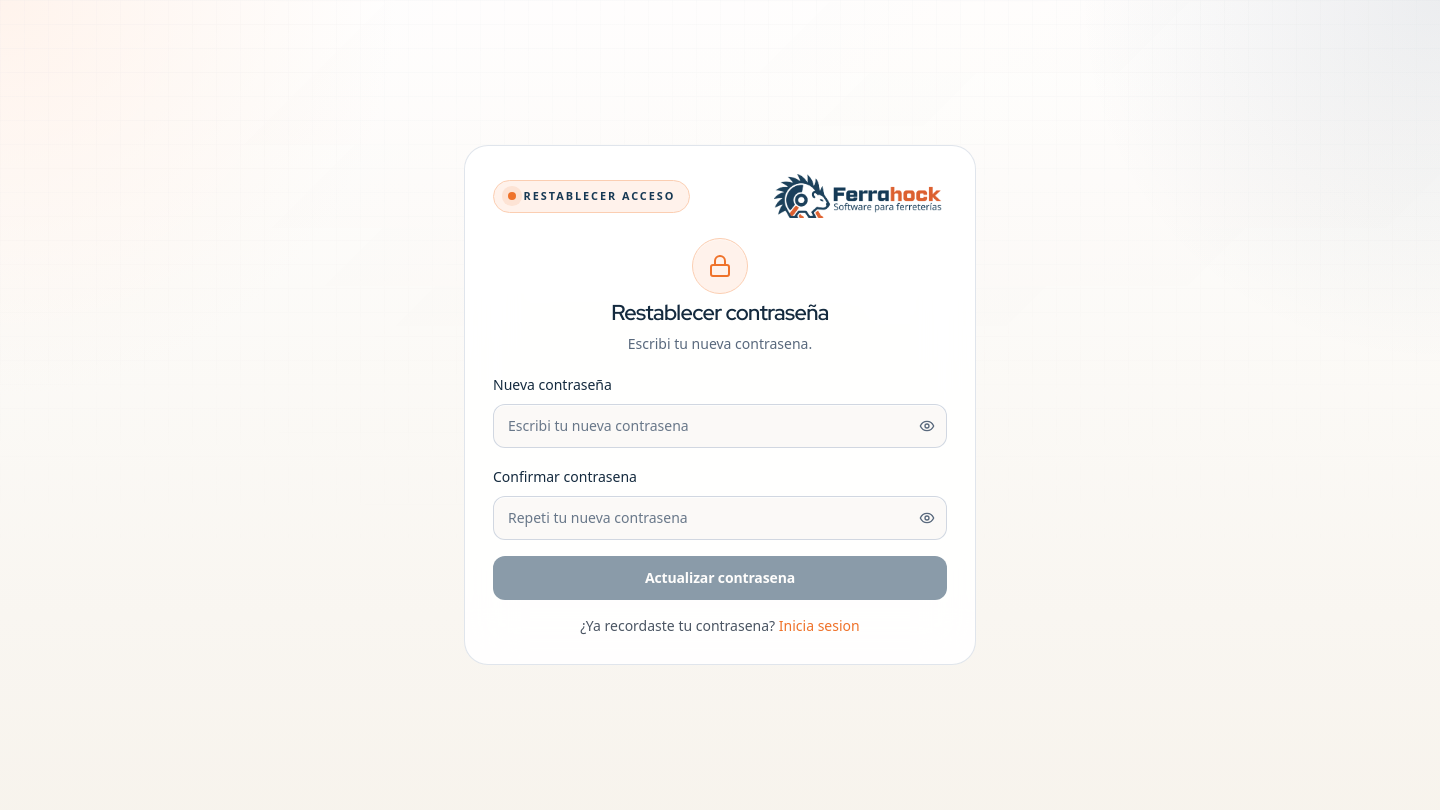
Test: reset-password page › handles expired token errors by switching to invalid state
This screenshot has width=1440, height=810.
Type "Abcdef1!" into the password field with placeholder "Escribi tu nueva contrasena" at (720, 426), box [493,404,947,448]
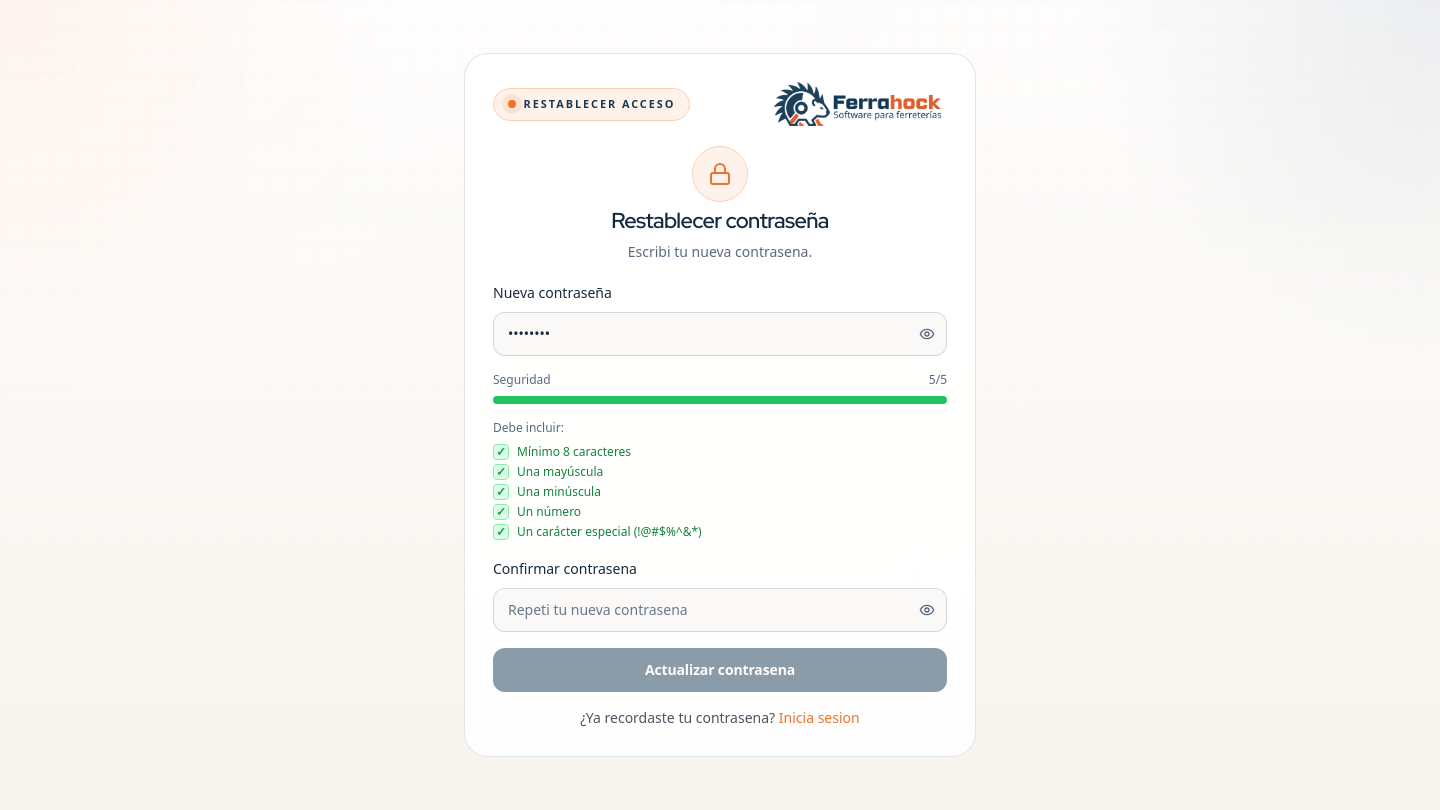
Type "Abcdef1!" into the password field with placeholder "Repeti tu nueva contrasena" at (720, 610), box [493,588,947,632]
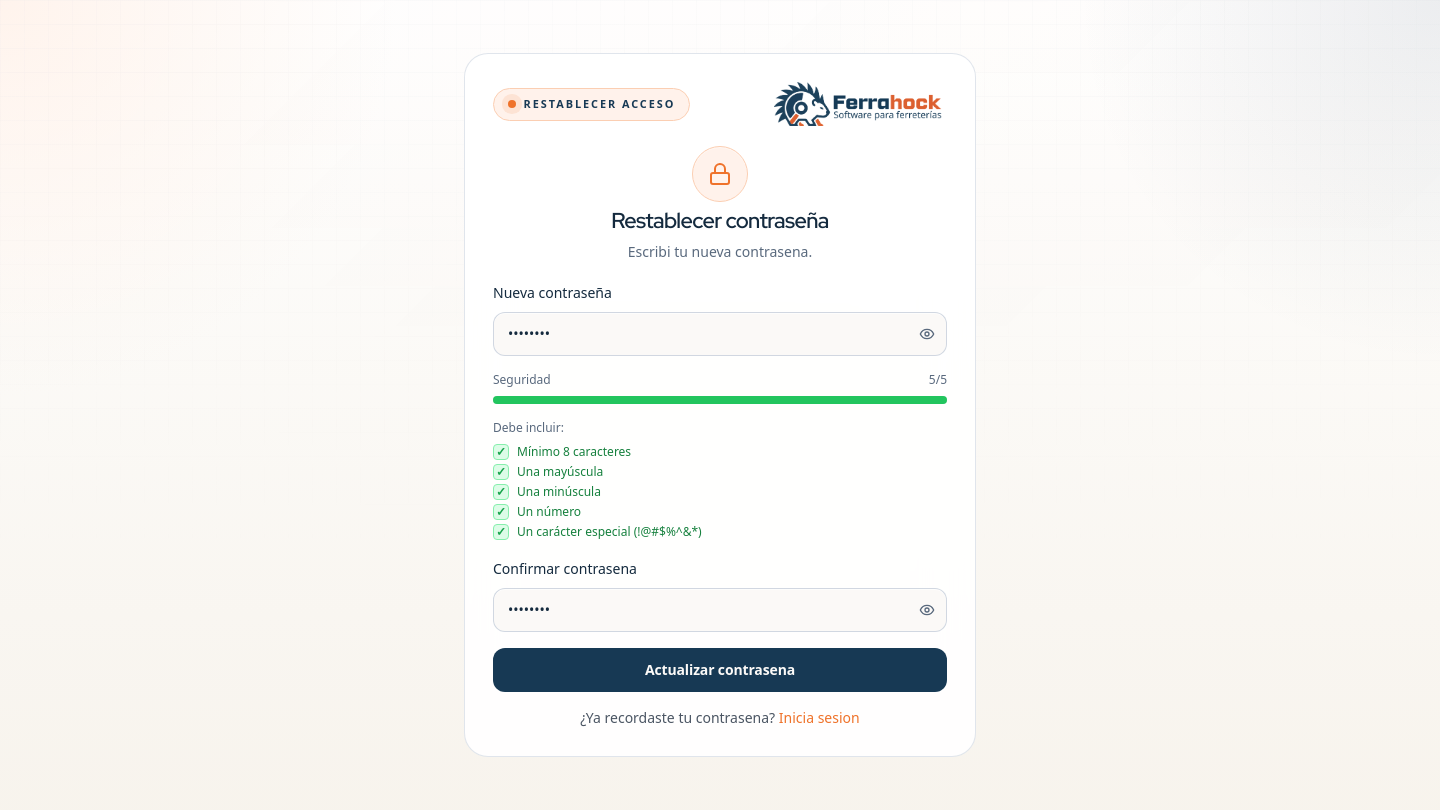
Click the button "Actualizar contrasena" at (720, 670), box [493,648,947,692]
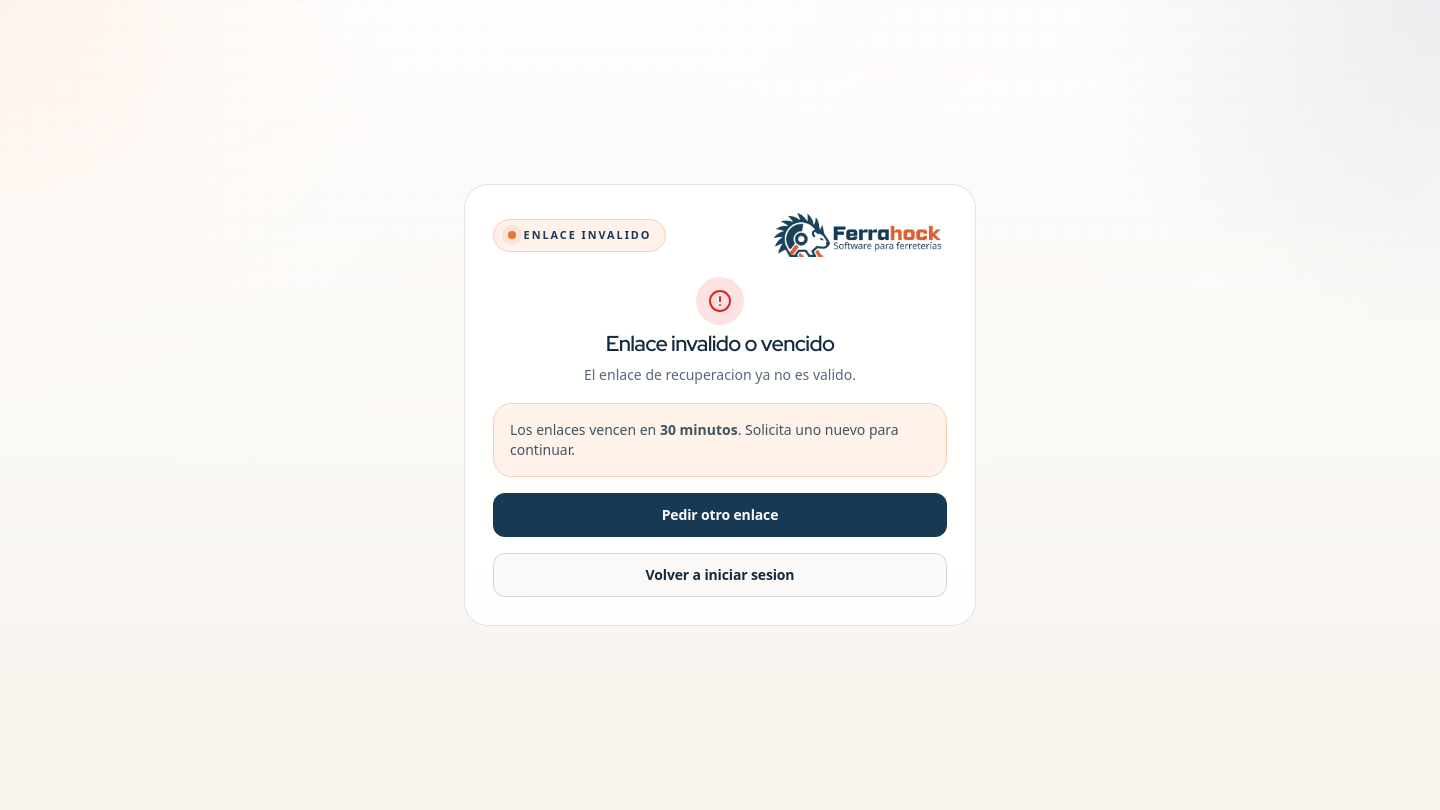
expect the heading "Enlace invalido o vencido" is shown: met, box [606,329,834,358]
